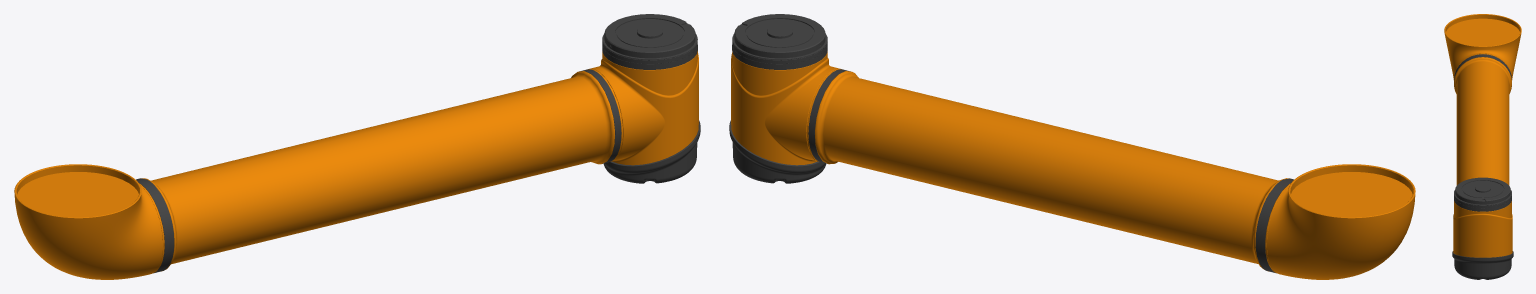
The picture shows the model from 3 angles, left to right: view 1: azimuth 30°, elevation 25°; view 2: azimuth 150°, elevation 25°; view 3: azimuth 270°, elevation 25°; orthographic projection. The views are drawn at different scales.
Parts seen in each view (by area): view 1: NONE, NONE_ncl1_1, FBXASC195FBXASC137FBXASC194FBXASC190FBXASC194FBXASC179FBXASC; view 2: NONE, NONE_ncl1_1, FBXASC195FBXASC137FBXASC194FBXASC190FBXASC194FBXASC179FBXASC; view 3: NONE, NONE_ncl1_1, FBXASC195FBXASC137FBXASC194FBXASC190FBXASC194FBXASC179FBXASC.
Boxes of the visible parts, box(x1,y1,x2,y2) form: NONE: box(136, 69, 622, 273); NONE_ncl1_1: box(589, 14, 700, 183); FBXASC195FBXASC137FBXASC194FBXASC190FBXASC194FBXASC179FBXASC: box(14, 164, 162, 279); NONE: box(806, 69, 1293, 273); NONE_ncl1_1: box(729, 14, 841, 183); FBXASC195FBXASC137FBXASC194FBXASC190FBXASC194FBXASC179FBXASC: box(1267, 164, 1415, 279); NONE: box(1454, 53, 1511, 185); NONE_ncl1_1: box(1452, 177, 1513, 279); FBXASC195FBXASC137FBXASC194FBXASC190FBXASC194FBXASC179FBXASC: box(1444, 14, 1521, 79).
Bounding box in the file's own units: 0.7044 × 0.1157 × 0.1365.
